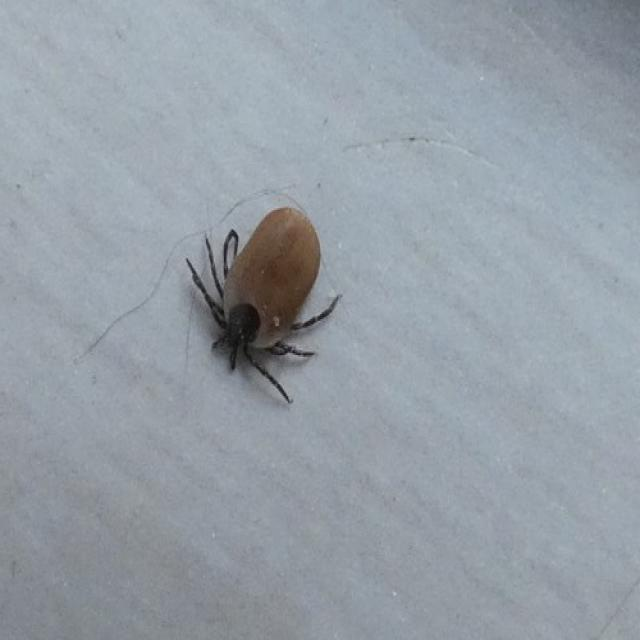Ixodes Ricinus-F-Fed: (186, 205, 343, 408)
